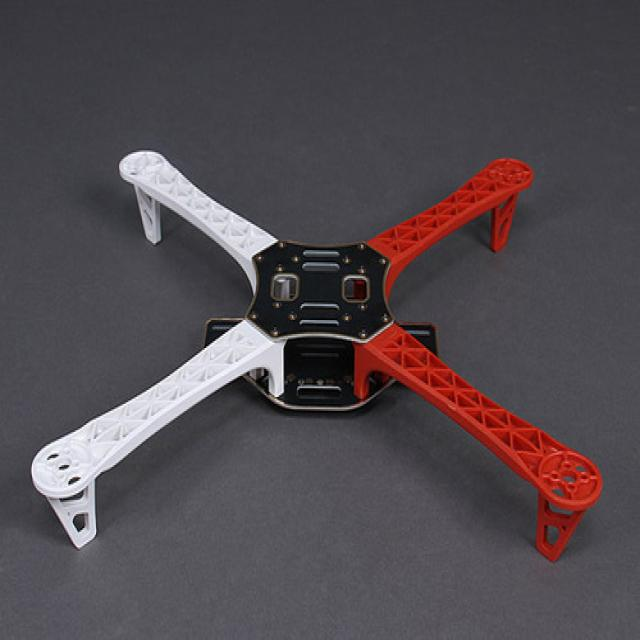drone: (11, 50, 624, 575)
